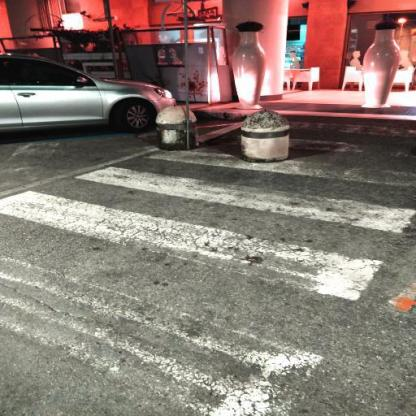crosswalk: (0, 164, 414, 303)
